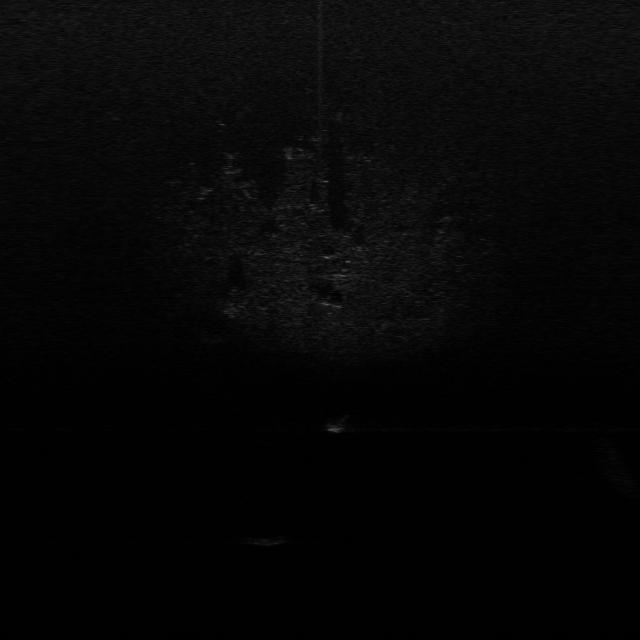cube: (240, 532, 286, 549)
square cage: (324, 414, 352, 434)
